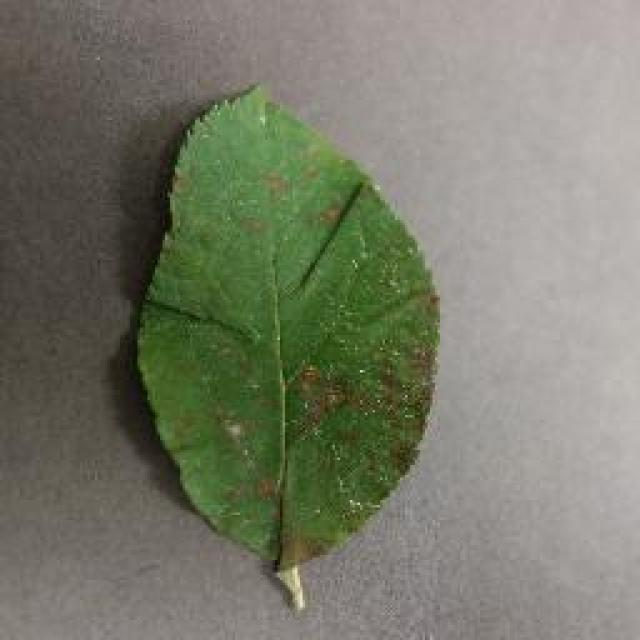Apple___Cedar_apple_rust: (171, 279, 438, 536)
